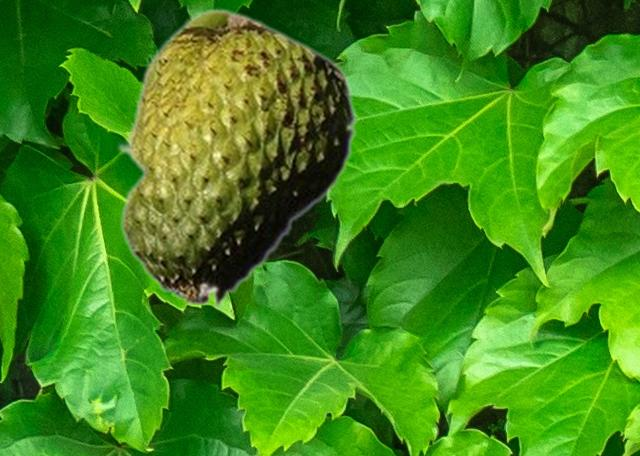guyabano: (116, 7, 357, 310)
